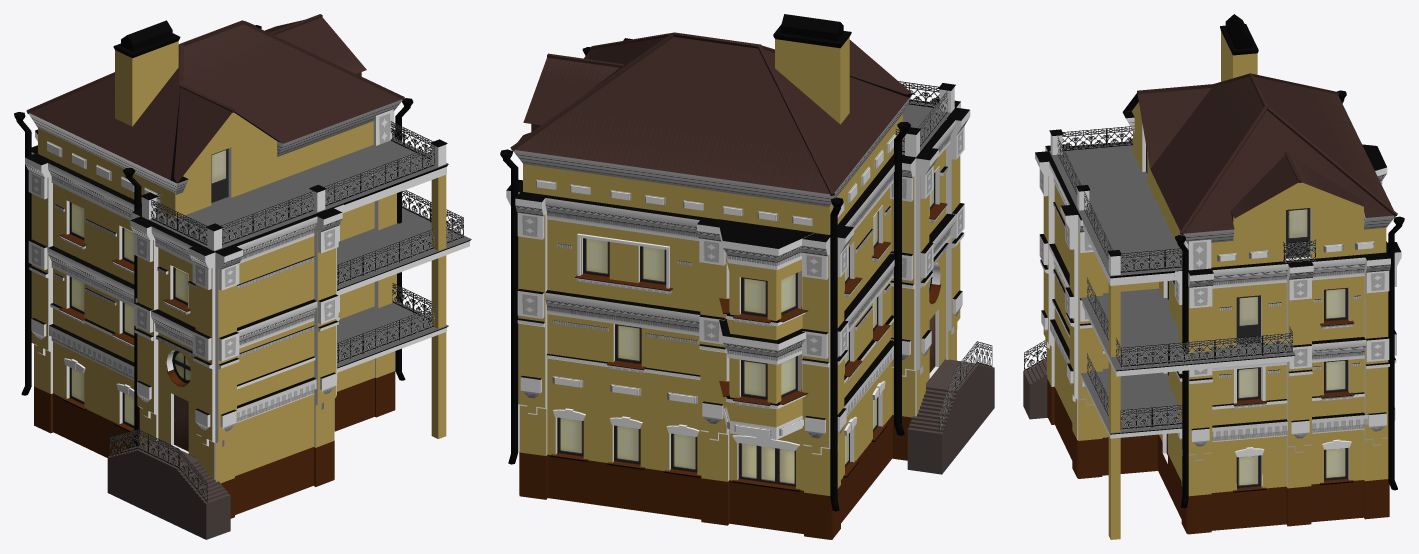
File: HouseForStreet4.FBX
3 views of the same model, side by side, from view 1: azimuth 30°, elevation 25°; view 2: azimuth 150°, elevation 25°; view 3: azimuth 270°, elevation 25° (orthographic). The views are drawn at different scales.
Parts seen in each view (by area): view 1: 01020-50@60824; view 2: 01020-50@60824; view 3: 01020-50@60824.
Boxes of the visible parts, bbox=[...] form: 01020-50@60824: bbox=[14, 14, 471, 539]; 01020-50@60824: bbox=[500, 14, 994, 539]; 01020-50@60824: bbox=[1023, 14, 1404, 539].
Size of the model in its own units: 14.54 by 17.03 by 14.49.
1 material, 1 textured.
